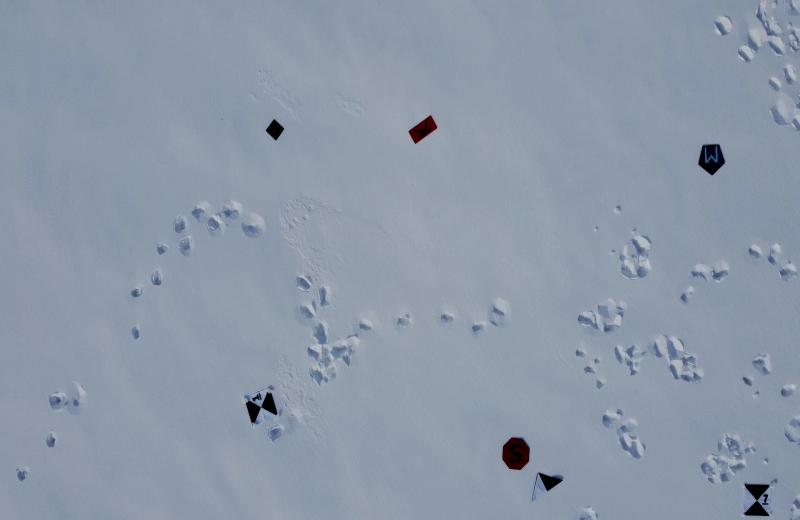Octagon: (502, 438, 530, 473)
Pentagon: (697, 143, 726, 177)
Rectangle: (406, 114, 439, 146)
Square: (266, 117, 286, 142)
